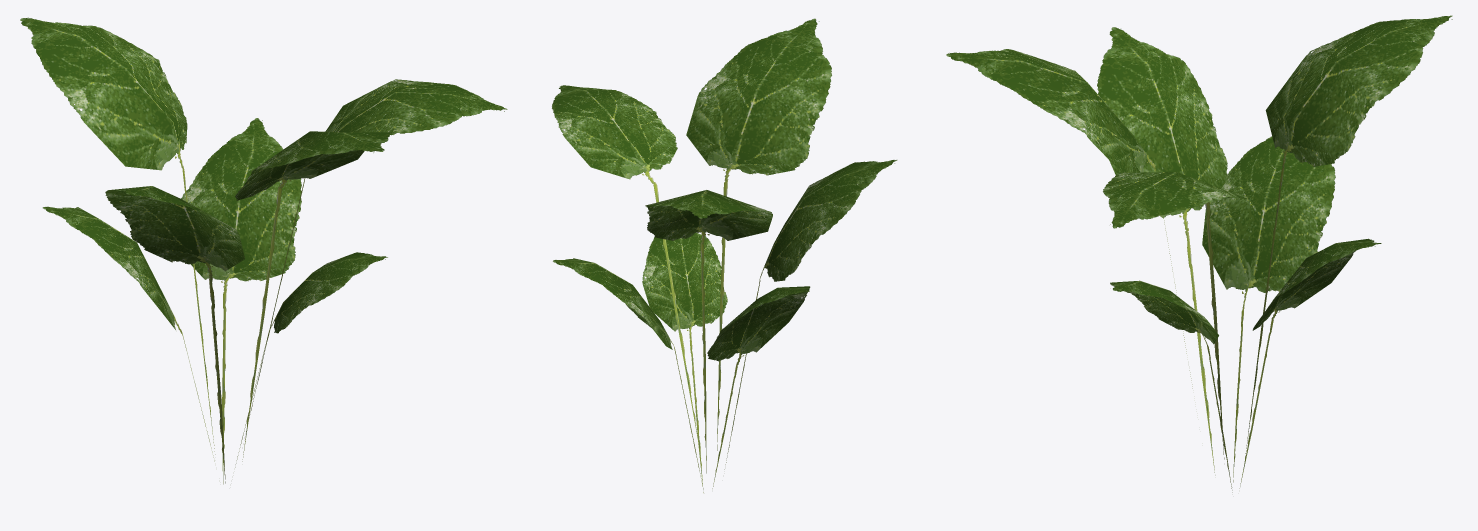
The model's file is Plant.fbx.
3 renders of one model, left to right at view 1: azimuth 30°, elevation 25°; view 2: azimuth 150°, elevation 25°; view 3: azimuth 270°, elevation 25°, orthographic. The views are drawn at different scales.
Parts seen in each view (by area): view 1: Plant; view 2: Plant; view 3: Plant.
Part boxes in pixels (left/top/right/bottom): Plant: left=20, top=17, right=507, bottom=484; Plant: left=552, top=18, right=897, bottom=492; Plant: left=946, top=15, right=1452, bottom=492.
Size of the model in its own units: 61.72 by 68.46 by 69.55.
1 material, 1 textured.
